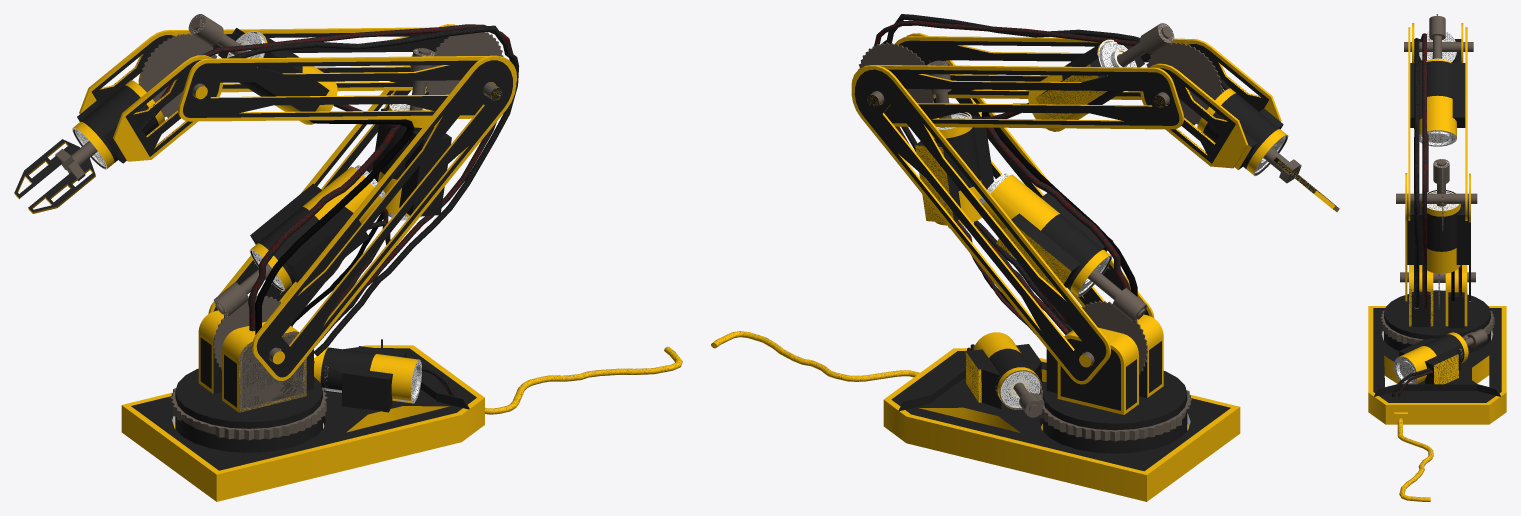
3 views of the same model, side by side, from view 1: azimuth 30°, elevation 25°; view 2: azimuth 150°, elevation 25°; view 3: azimuth 270°, elevation 25° (orthographic). The views are drawn at different scales.
Parts seen in each view (by area): view 1: SketchUp (×43); view 2: SketchUp (×39); view 3: SketchUp (×46).
Boxes of the visible parts, x1=… form: SketchUp (×43): x1=14, y1=24, x2=682, y2=501; SketchUp (×39): x1=711, y1=14, x2=1281, y2=501; SketchUp (×46): x1=1368, y1=16, x2=1506, y2=501.
Size of the model in its own units: 381 by 97.22 by 251.
